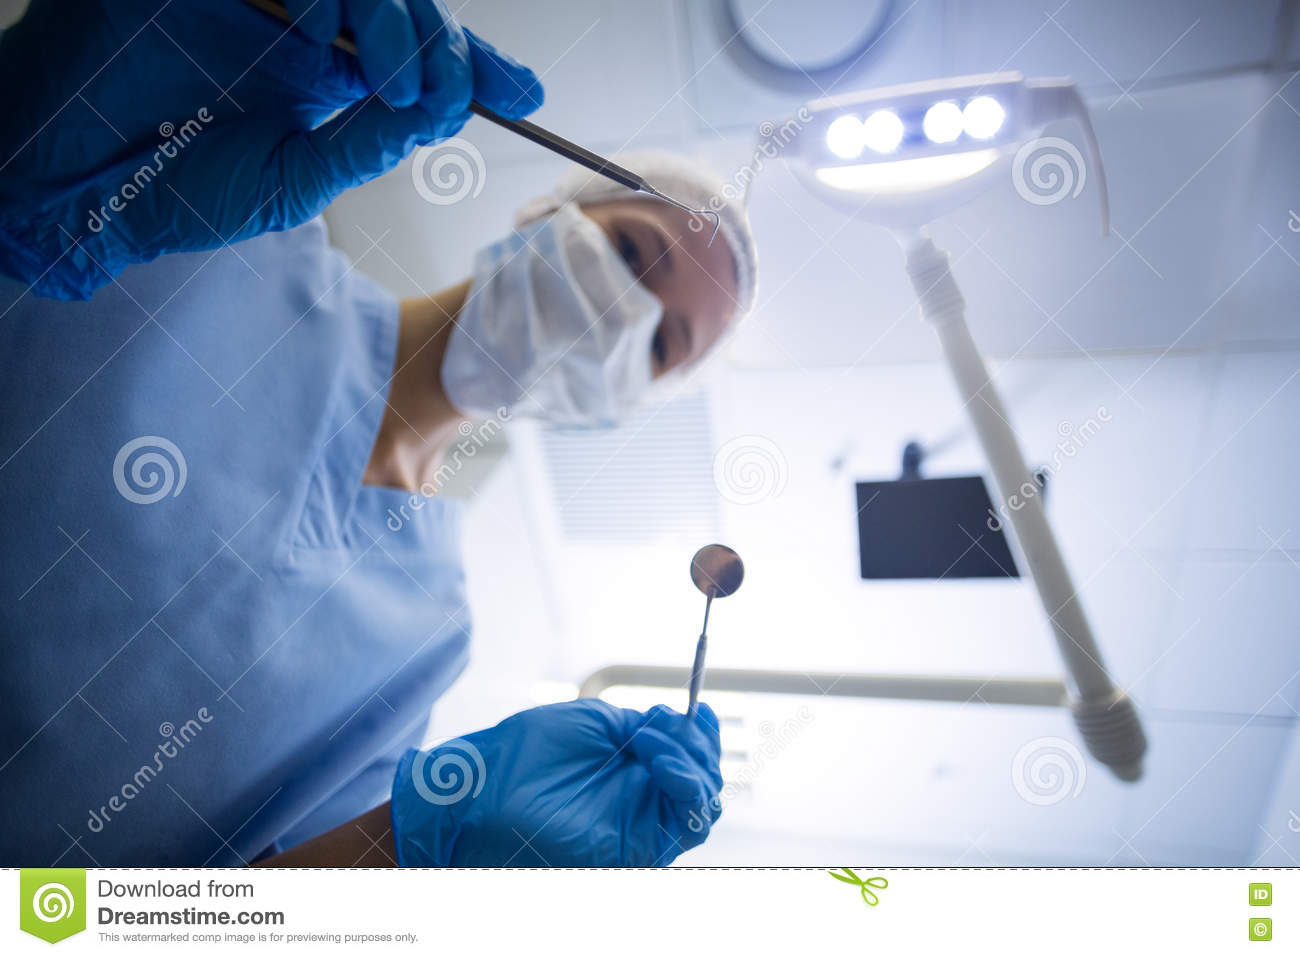mask: (464, 219, 664, 446)
